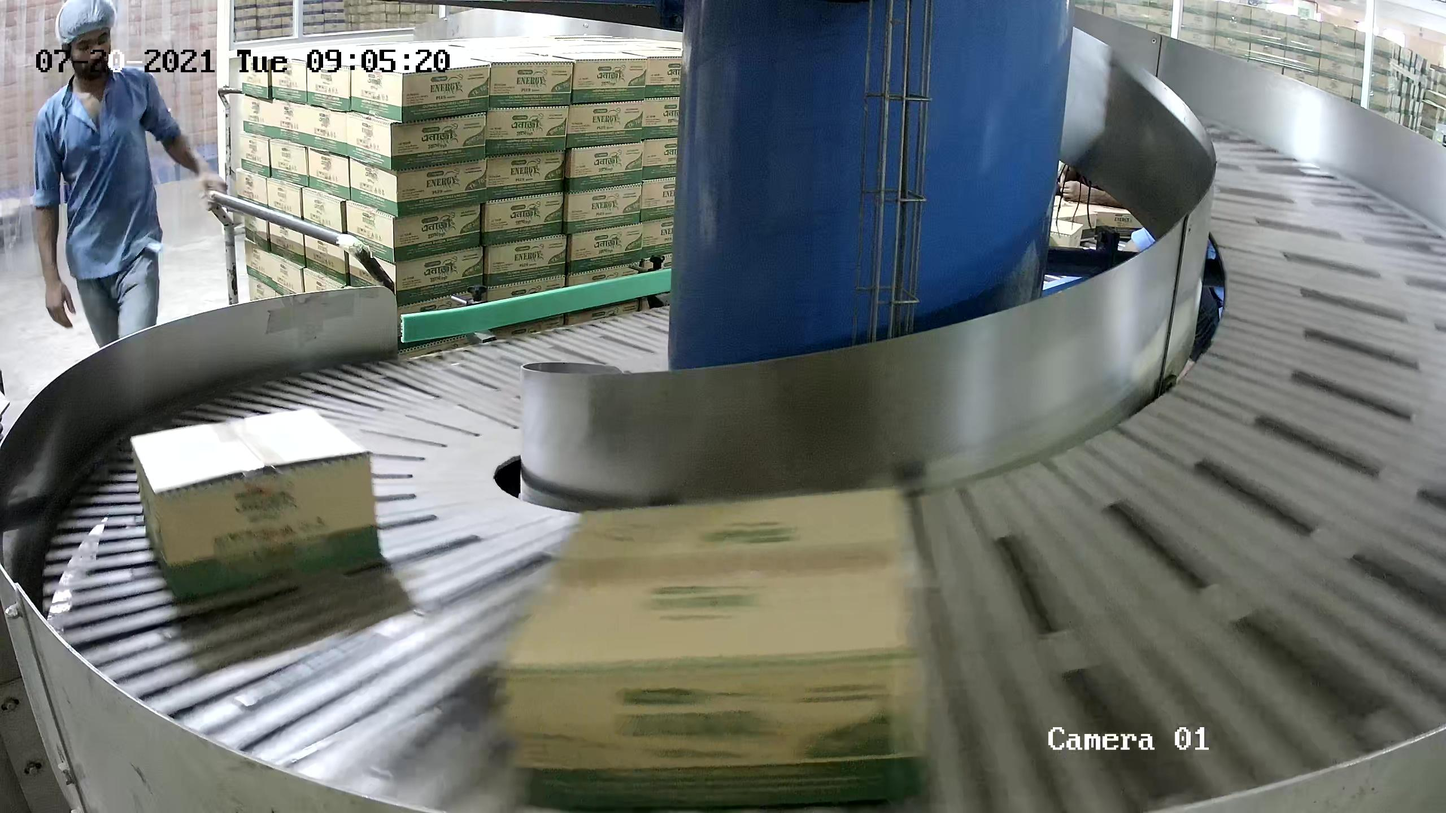Box: (493, 484, 941, 813), (129, 406, 383, 604)
